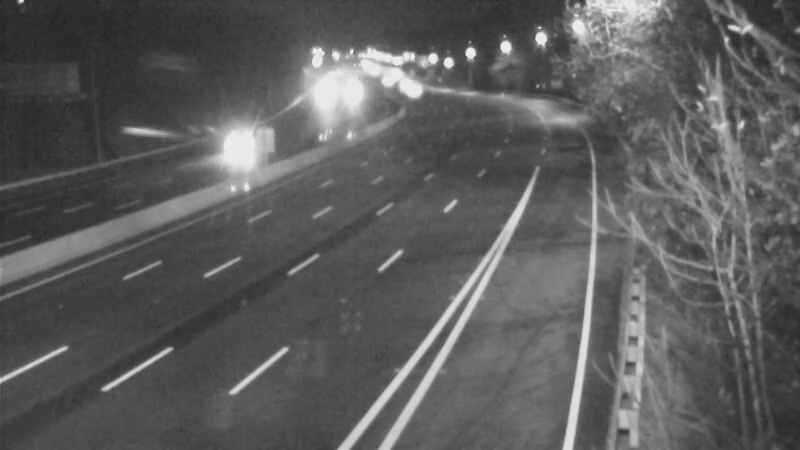vehicle: (193, 112, 273, 192), (358, 55, 408, 105), (380, 62, 430, 112), (388, 64, 438, 114), (298, 73, 348, 123)
